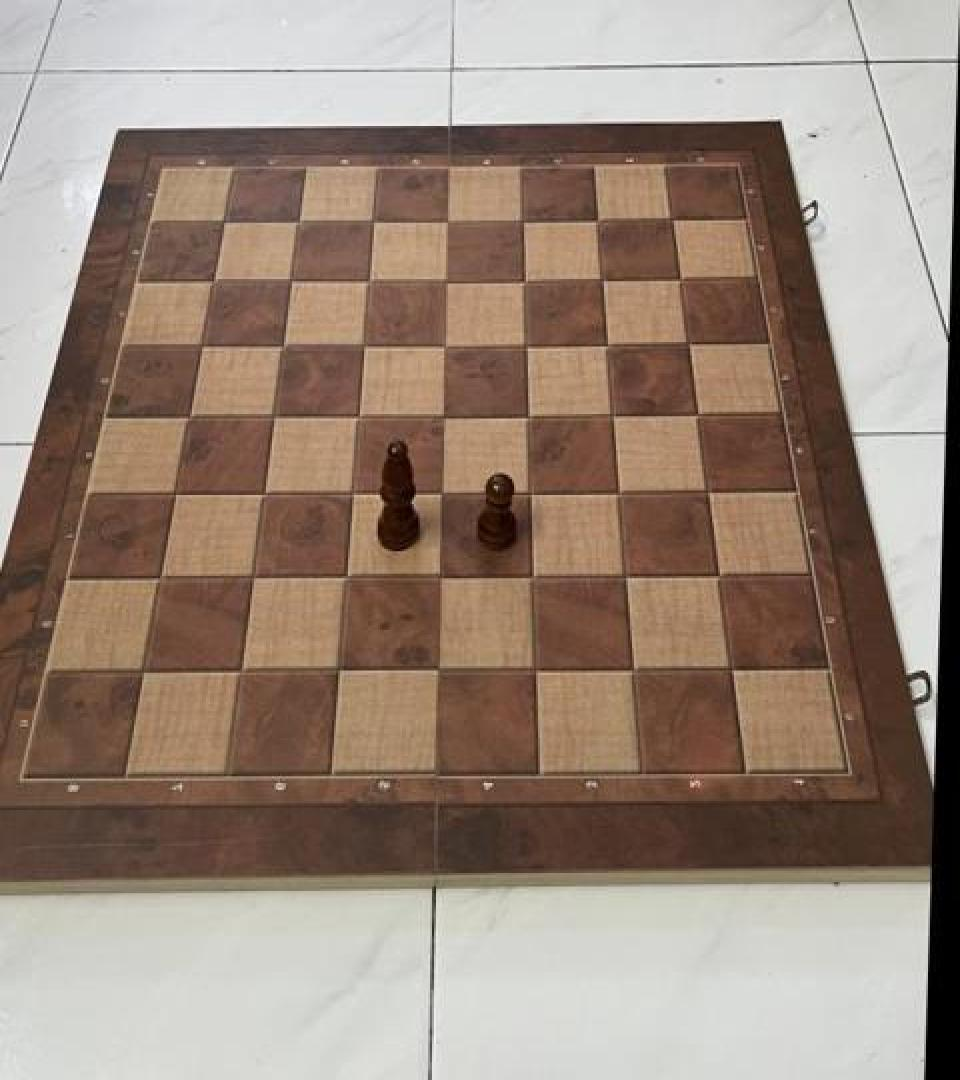xcorner: (421, 650, 455, 689), (518, 650, 552, 689), (208, 204, 242, 242), (283, 204, 317, 242), (357, 204, 391, 242), (432, 204, 466, 242), (506, 204, 540, 242), (580, 204, 614, 242), (654, 204, 688, 242), (197, 264, 231, 302), (275, 264, 309, 302), (353, 264, 387, 302), (430, 264, 464, 302), (508, 264, 542, 302), (585, 264, 619, 302), (662, 262, 696, 300), (186, 328, 220, 366), (267, 328, 301, 366), (348, 328, 382, 366), (429, 328, 463, 366), (509, 328, 543, 366), (590, 326, 624, 364), (670, 326, 704, 364), (173, 398, 207, 436), (258, 398, 292, 436), (343, 397, 377, 435), (427, 397, 461, 435), (511, 397, 545, 435), (595, 397, 629, 435), (679, 396, 713, 434), (159, 475, 193, 513), (248, 475, 282, 513), (337, 475, 371, 513), (425, 474, 459, 512), (513, 474, 547, 512), (601, 472, 635, 510), (689, 472, 723, 510), (144, 560, 178, 598), (238, 559, 272, 597), (331, 558, 365, 596), (423, 558, 457, 596), (516, 557, 550, 595), (608, 557, 642, 595), (700, 556, 734, 594), (128, 654, 162, 692), (226, 652, 260, 690), (324, 652, 358, 690), (615, 649, 649, 687), (712, 648, 746, 686)
